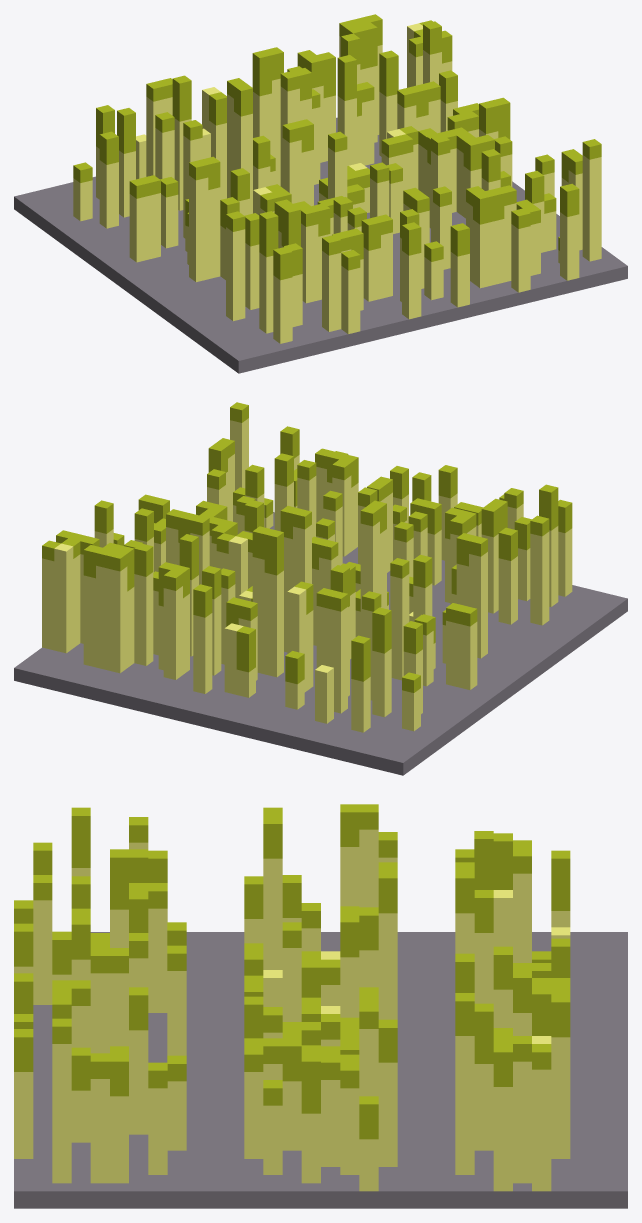
File: field.obj
3 views of the same model, one above another, from view 1: azimuth 30°, elevation 25°; view 2: azimuth 150°, elevation 25°; view 3: azimuth 270°, elevation 25° (orthographic). The views are drawn at different scales.
Bounding box in the file's own units: 3.2 × 1.3 × 3.2.
1 material, 1 textured.
